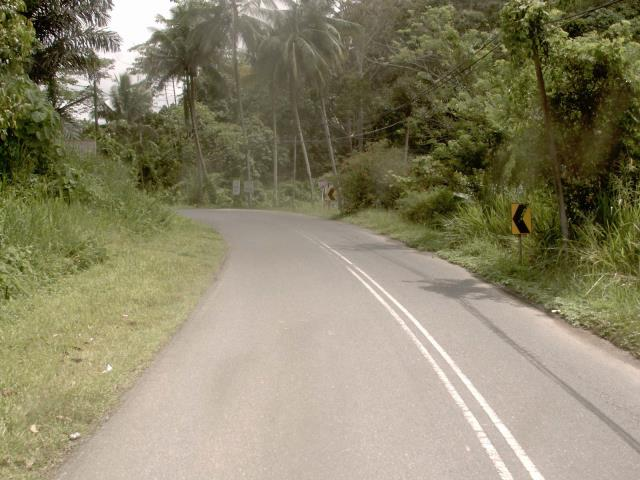traffic_sign: (505, 197, 537, 240)
